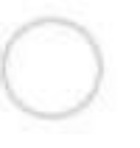CheckBox: (1, 1, 139, 147)
